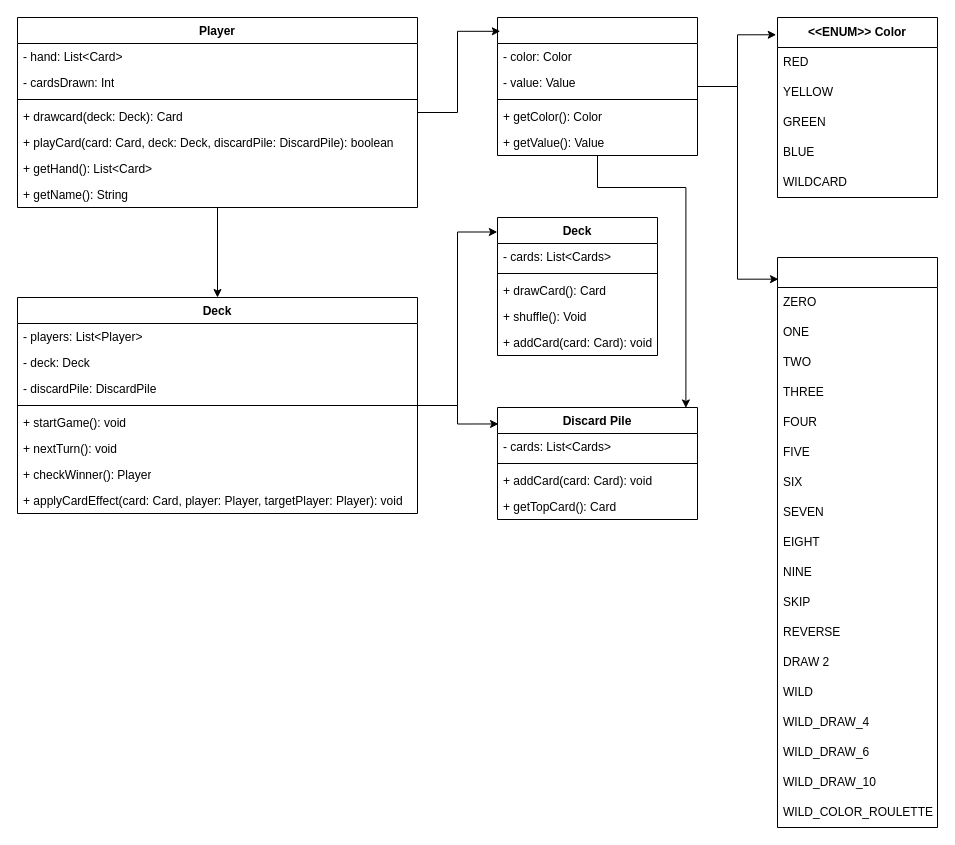
The diagram is 955 pixels wide and 845 high, and some of its shapes have lost their labels. The shapes that lost their labels are listed below. From the top down, each one's box as (x1, y1, x2, y2) in pixels, then its label:
(496, 16, 698, 156): Card
(776, 256, 938, 828): <<ENUM>> Value
